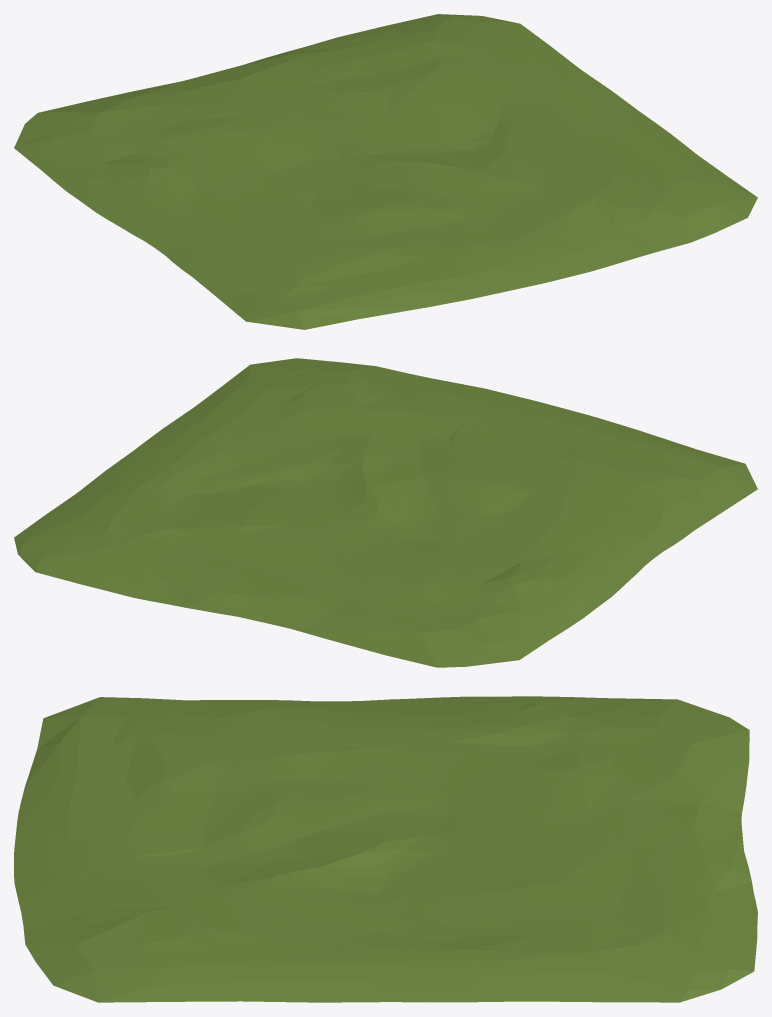
Rendered from ground.obj.
The picture shows the model from 3 angles, top to bottom: view 1: azimuth 30°, elevation 25°; view 2: azimuth 150°, elevation 25°; view 3: azimuth 270°, elevation 25°; orthographic projection. The views are drawn at different scales.
Parts seen in each view (by area): view 1: rpgpp_lt_terrain_grass_02_0; view 2: rpgpp_lt_terrain_grass_02_0; view 3: rpgpp_lt_terrain_grass_02_0.
Part boxes in pixels (<box>): rpgpp_lt_terrain_grass_02_0: <box>14,14,757,329</box>; rpgpp_lt_terrain_grass_02_0: <box>14,358,757,667</box>; rpgpp_lt_terrain_grass_02_0: <box>14,696,757,1002</box>.
Size of the model in its own units: 18.93 by 0.4518 by 19.44.
